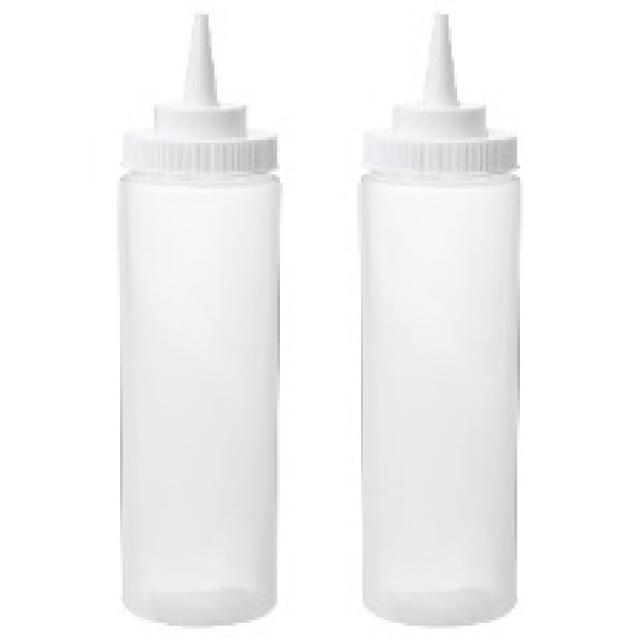plastic_bottle: (107, 27, 288, 625), (353, 32, 529, 626)
